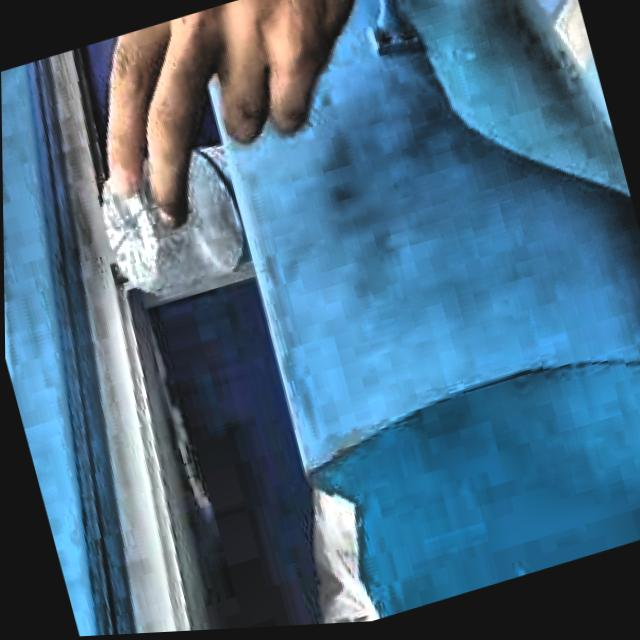plastic: (100, 148, 247, 293)
